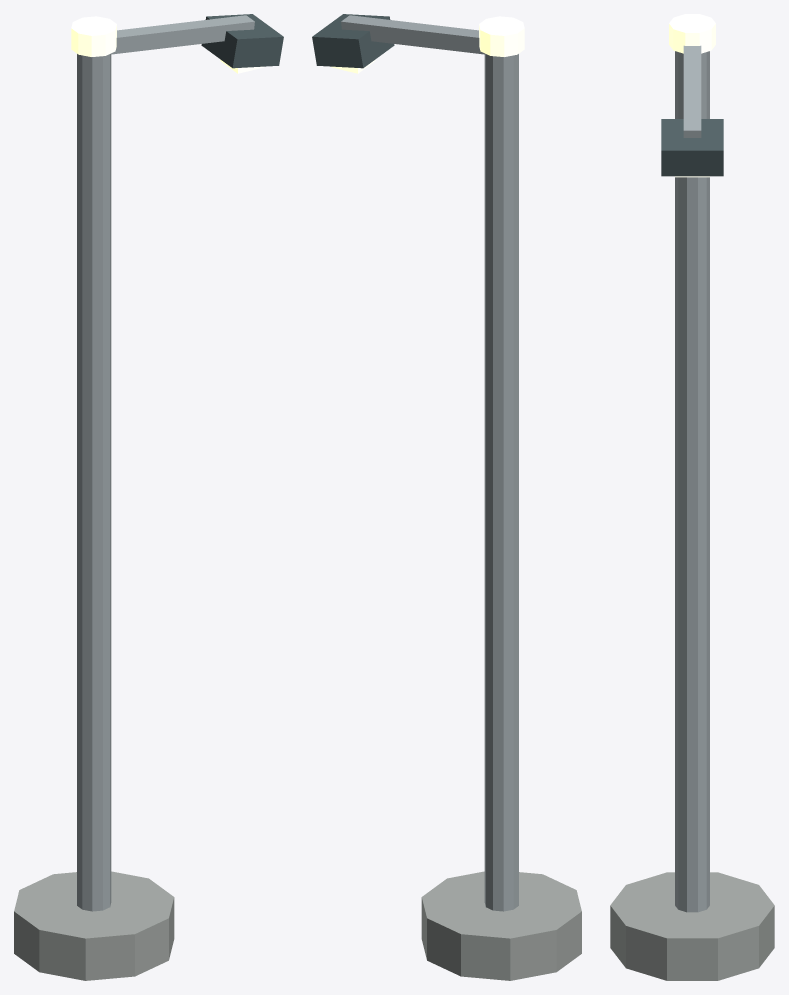
File: yaba_street_lamp.glb
3 views of the same model, side by side, from view 1: azimuth 30°, elevation 25°; view 2: azimuth 150°, elevation 25°; view 3: azimuth 270°, elevation 25° (orthographic).
Parts seen in each view (by area): view 1: lamp_pole, lamp_base, lamp_arm, lamp_head, lamp_cap; view 2: lamp_pole, lamp_base, lamp_arm, lamp_head, lamp_cap; view 3: lamp_pole, lamp_base, lamp_head, lamp_arm, lamp_cap.
Boxes of the visible parts, left/top/right/bottom form: lamp_pole: left=77, top=53, right=111, bottom=911; lamp_base: left=14, top=871, right=174, bottom=980; lamp_arm: left=111, top=15, right=254, bottom=54; lamp_head: left=201, top=14, right=283, bottom=68; lamp_cap: left=71, top=16, right=116, bottom=56; lamp_pole: left=484, top=53, right=518, bottom=911; lamp_base: left=421, top=871, right=581, bottom=980; lamp_arm: left=341, top=15, right=484, bottom=54; lamp_head: left=312, top=14, right=394, bottom=68; lamp_cap: left=479, top=16, right=524, bottom=56; lamp_pole: left=675, top=51, right=709, bottom=912; lamp_base: left=610, top=872, right=774, bottom=980; lamp_head: left=661, top=119, right=723, bottom=176; lamp_arm: left=683, top=45, right=701, bottom=137; lamp_cap: left=669, top=14, right=715, bottom=53.
Size of what is drawn, in the model's own units: 1.43 by 5.21 by 0.84.
